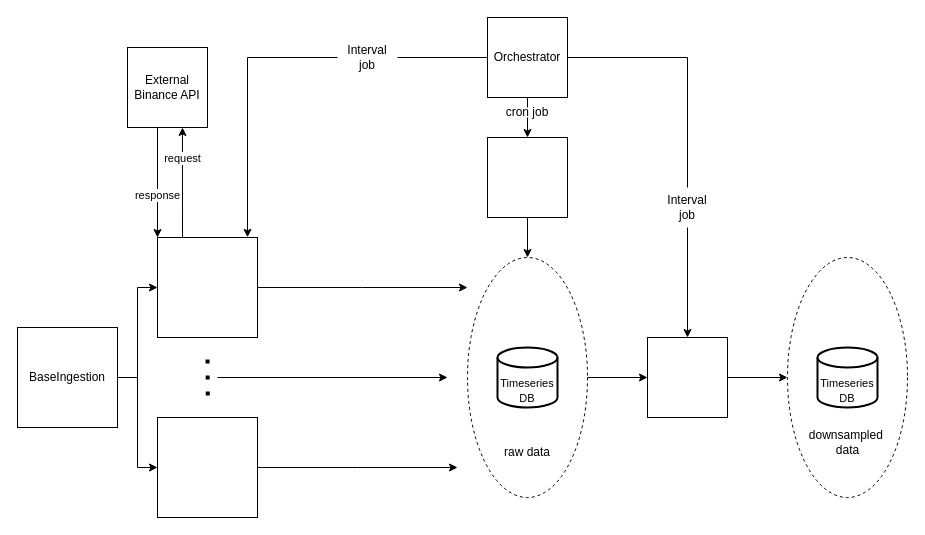
This 925x535 diagram has some shape labels left out. The box of each missing label's shape, as (x1, y1, x2, y2) in pixels:
BinanceIngestion: (156, 236, 258, 338)
cleanup raw data: (486, 136, 568, 218)
OtherIngestion: (156, 416, 258, 518)
Transformer: (646, 336, 728, 418)
